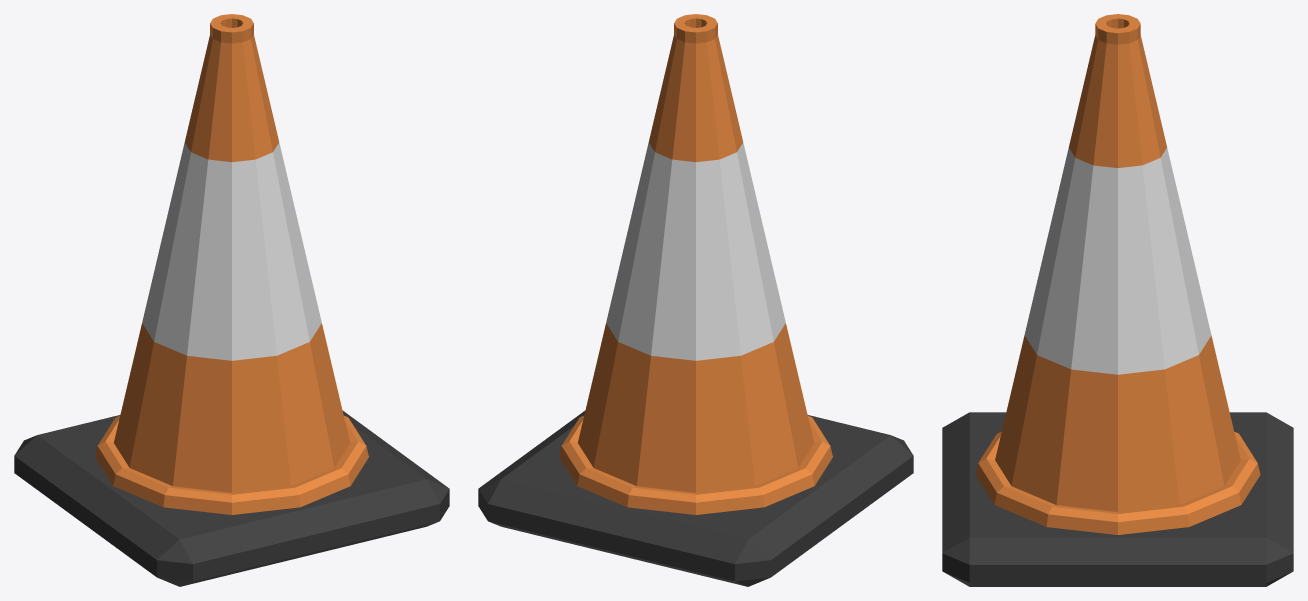
3 renders of one model, left to right at view 1: azimuth 30°, elevation 25°; view 2: azimuth 150°, elevation 25°; view 3: azimuth 270°, elevation 25°, orthographic. The views are drawn at different scales.
Visible parts, largest first — view 1: Cone B; view 2: Cone B; view 3: Cone B.
Part boxes in pixels (left/top/right/bottom): Cone B: left=14, top=14, right=449, bottom=586; Cone B: left=478, top=14, right=913, bottom=586; Cone B: left=942, top=14, right=1293, bottom=586.
Size of the model in its own units: 94.44 by 148 by 94.44.
